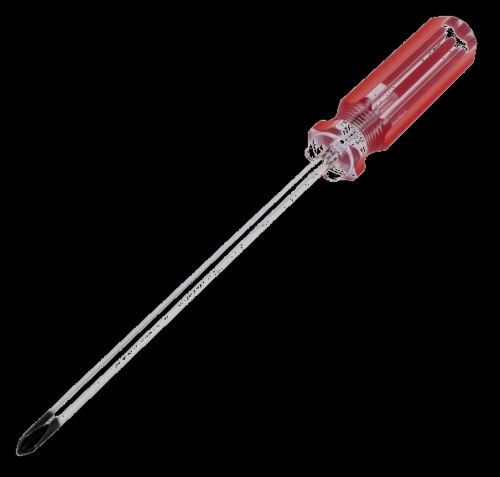screwdriver: (7, 7, 483, 463)
